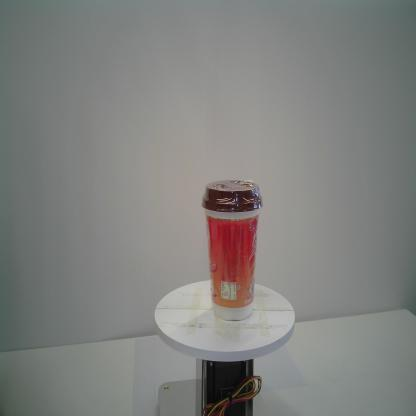Instant Drink: (200, 178, 263, 322)
